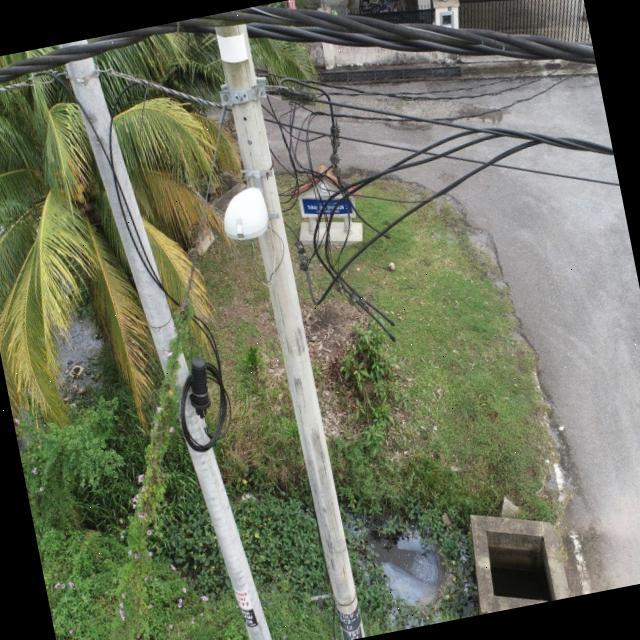critical vegetation: (45, 297, 256, 640)
